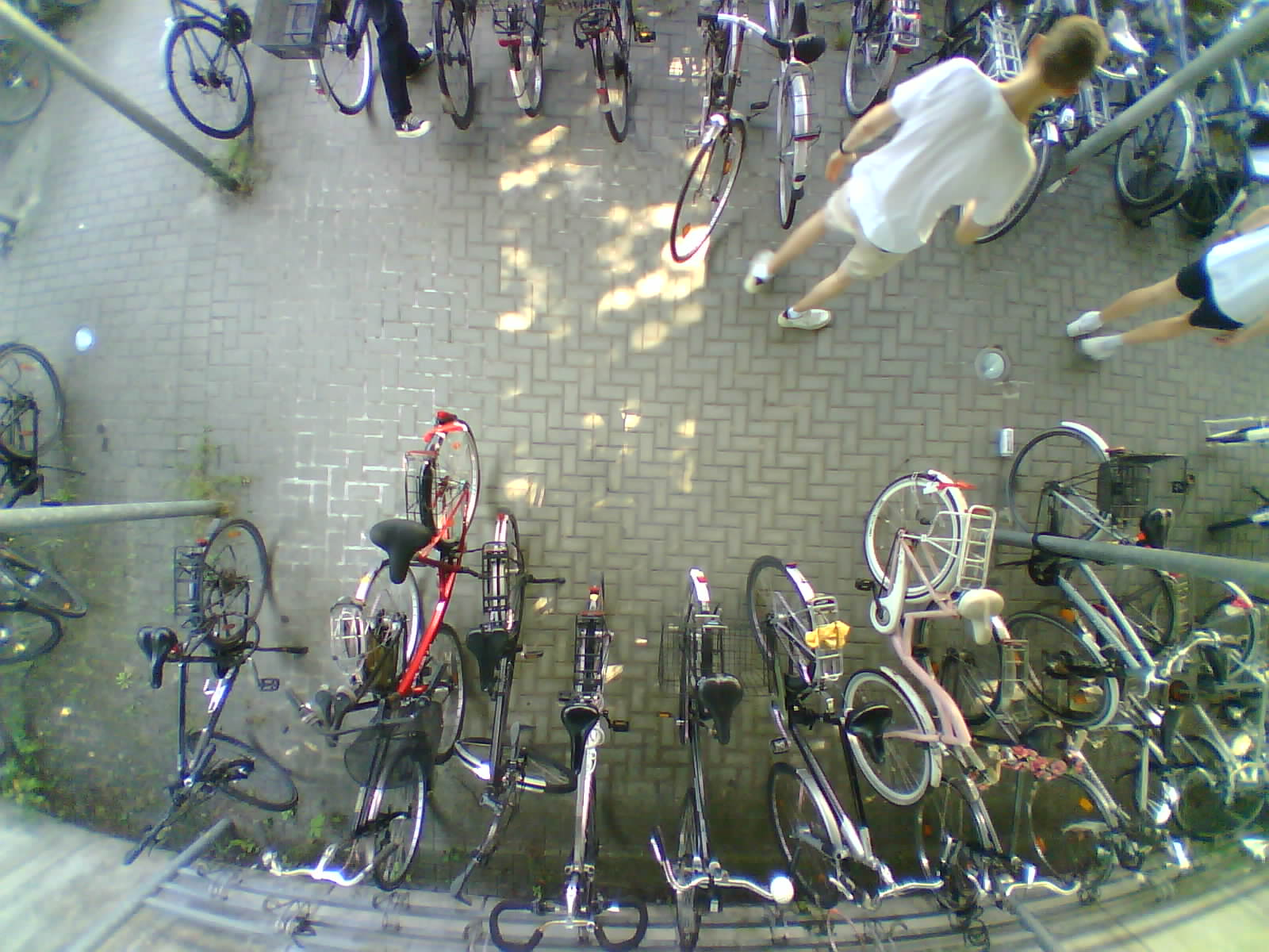bicylce: (999, 409, 1158, 724), (1083, 547, 1256, 832), (750, 554, 866, 912), (860, 465, 980, 809), (368, 414, 484, 758), (157, 510, 277, 835), (1033, 588, 1152, 908), (658, 571, 749, 952), (322, 557, 427, 881), (929, 587, 1015, 914), (470, 513, 543, 886), (555, 572, 622, 947)
saddle: (368, 514, 437, 582), (698, 670, 746, 748), (777, 2, 826, 70), (957, 590, 1008, 651), (851, 699, 897, 766), (135, 623, 178, 691), (466, 630, 512, 693), (311, 680, 356, 744), (560, 704, 598, 772), (1106, 11, 1150, 61), (1140, 501, 1179, 556), (1153, 697, 1184, 760), (1204, 638, 1228, 685), (1246, 79, 1269, 119)
